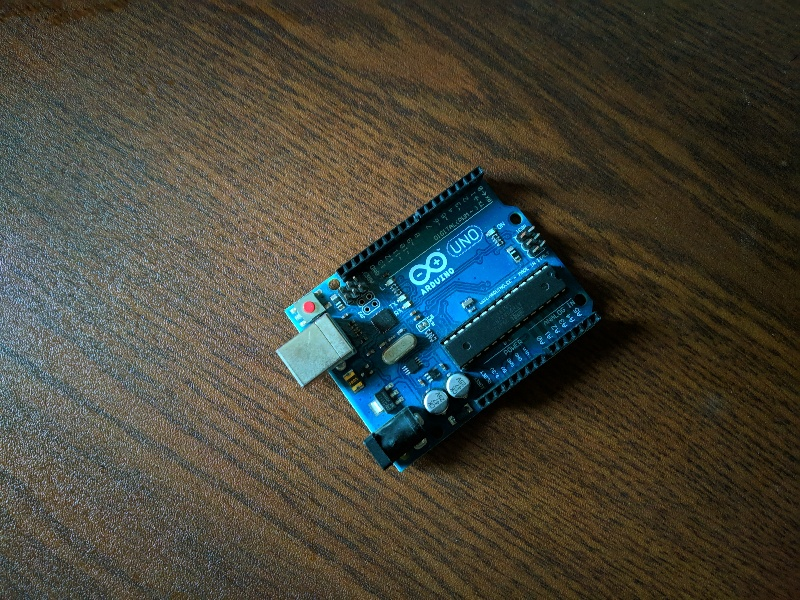Arduino UNO: (272, 162, 607, 486)
